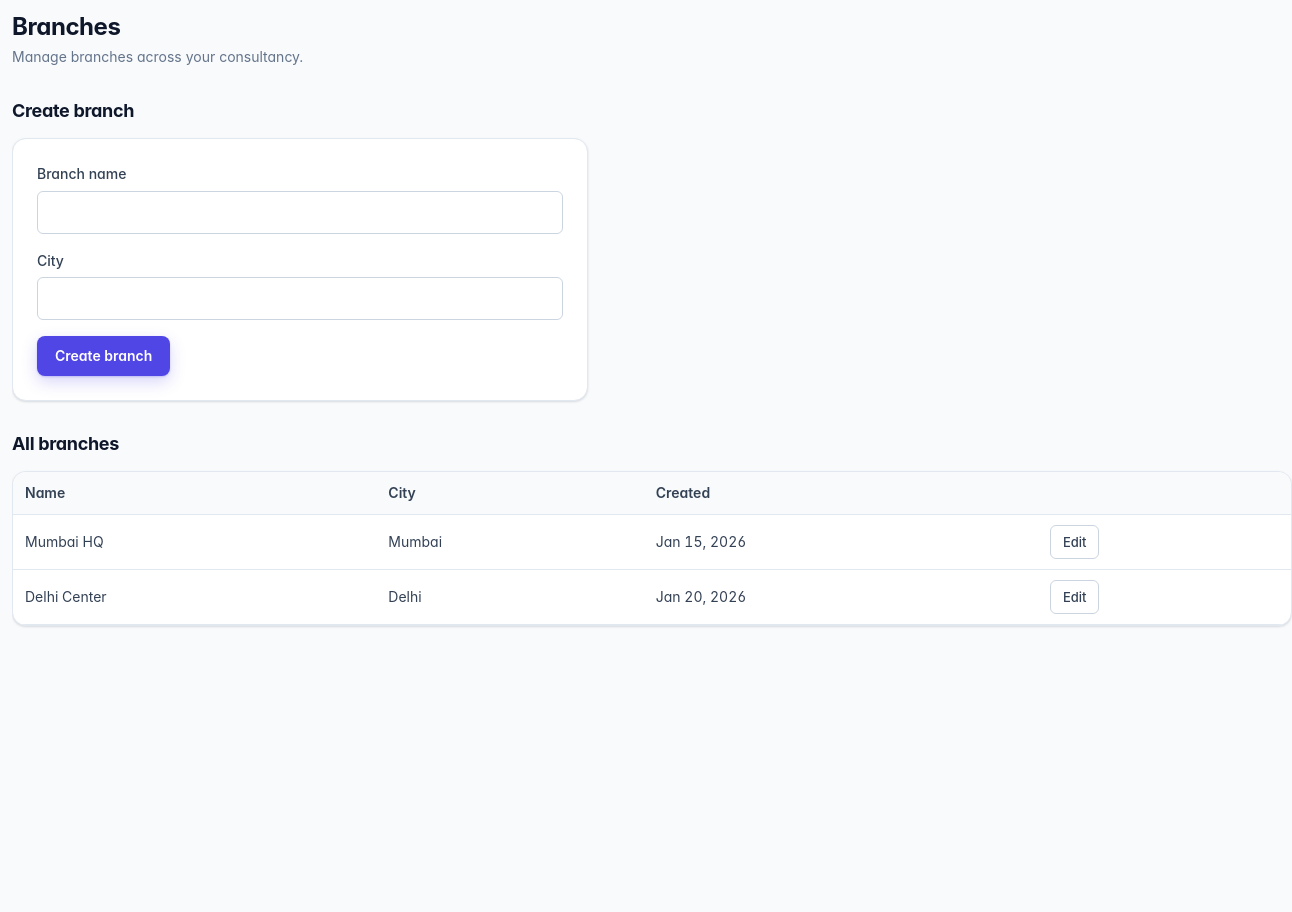
Test: BranchesPage › opens edit form and updates a branch
Click the button with test id "branch-edit-1" at (1075, 542), box [1050,525,1100,559]
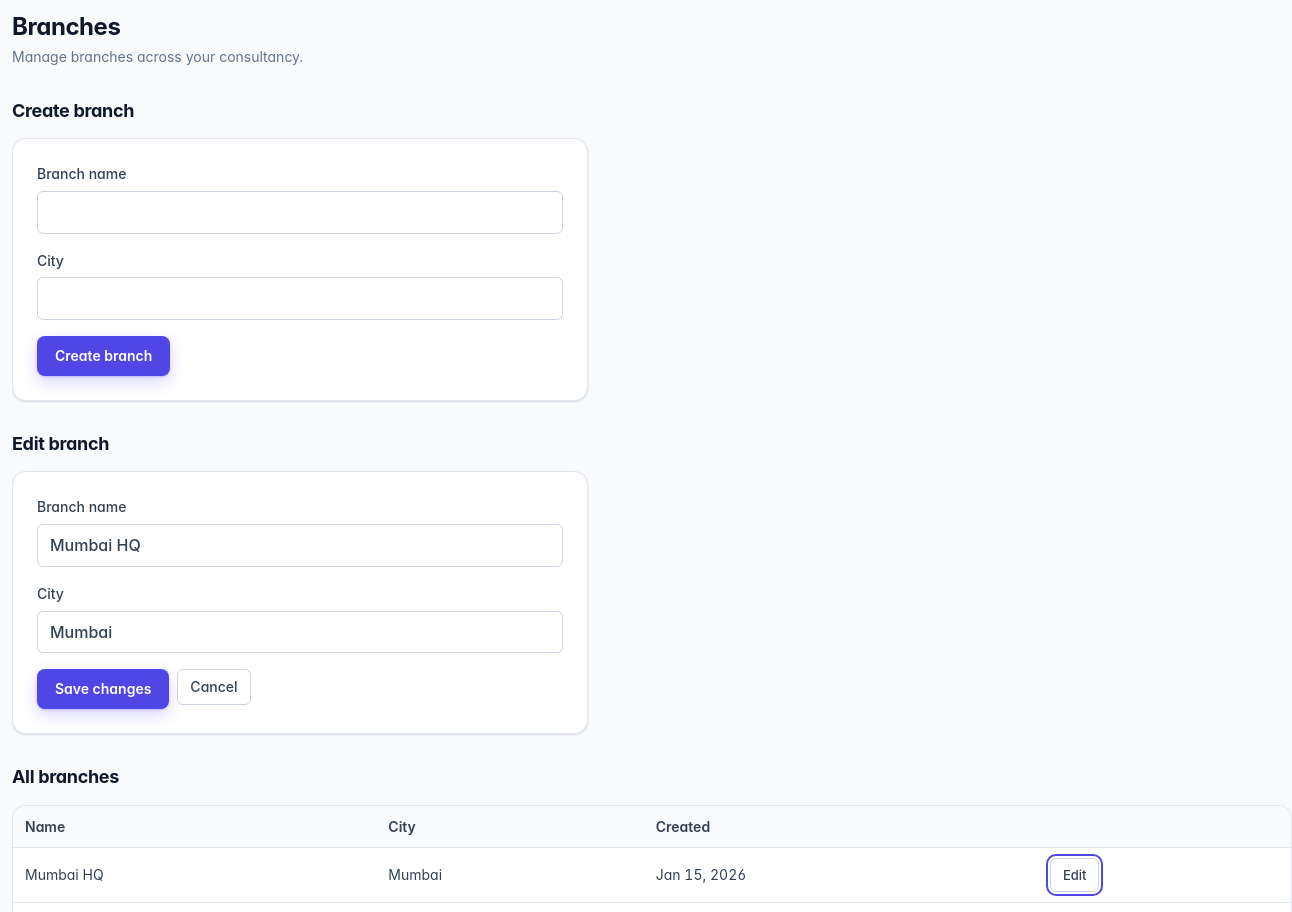
Expected: the field with test id "branch-edit-name" holds "Mumbai HQ"
Expected: the field with test id "branch-edit-city" holds "Mumbai", [37,610,563,653]
Replace the text in the field with test id "branch-edit-name" with "Mumbai Main" at (300, 545), box [37,524,563,567]
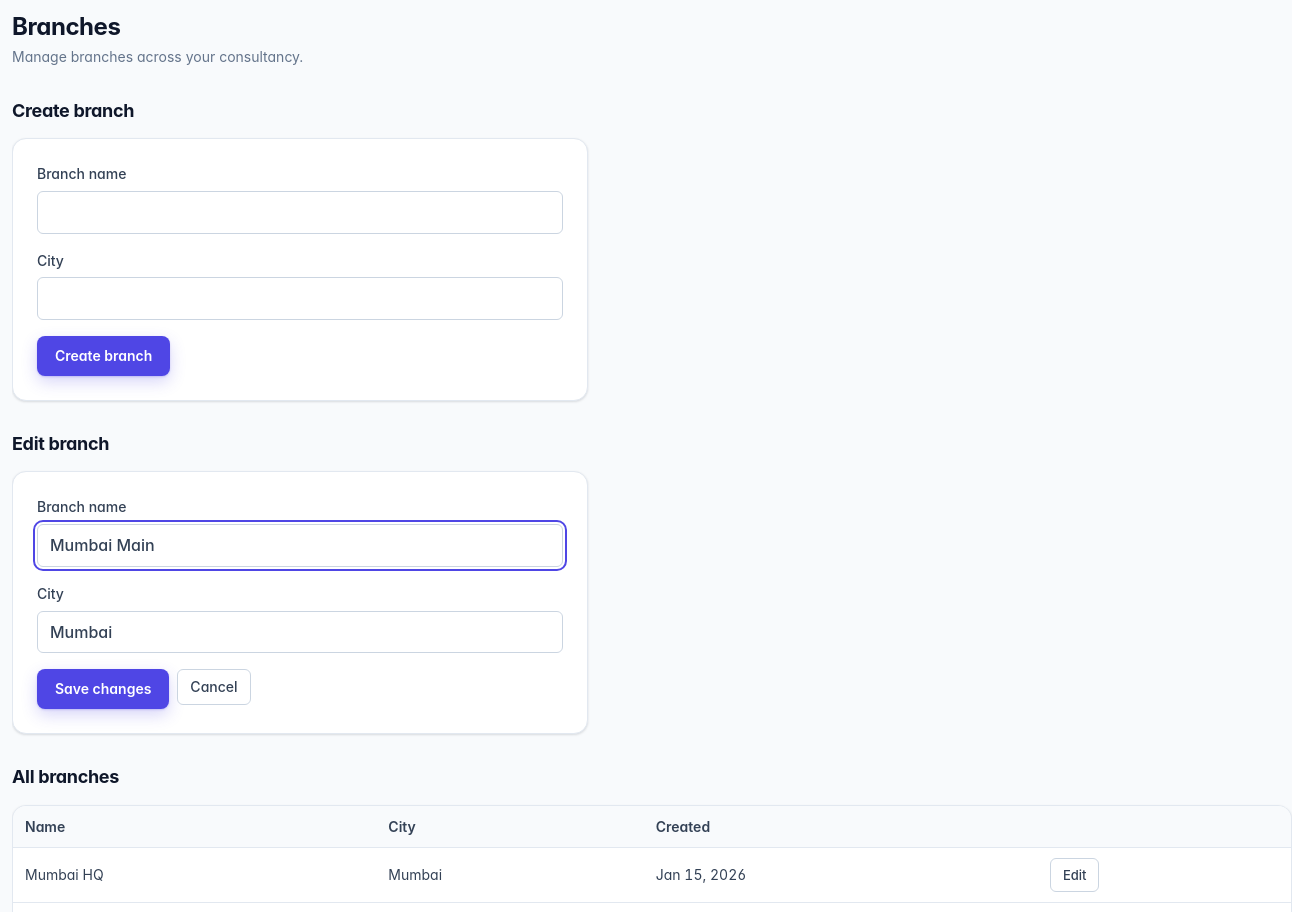
Click the button with test id "branch-edit-submit" at (103, 689), box [37,669,169,709]
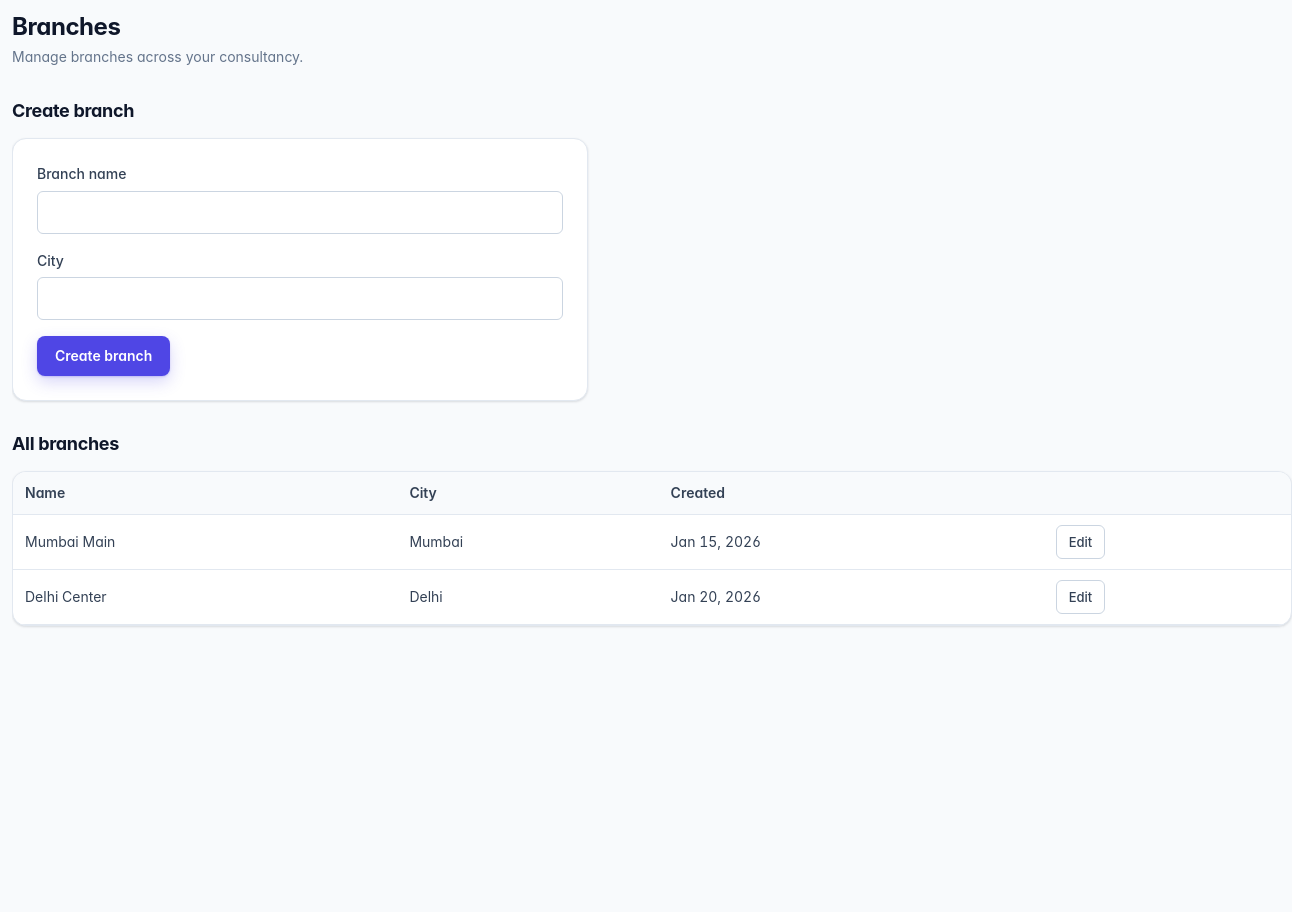
Expected: the field with test id "branch-edit-name" is gone
Expected: the text "Mumbai Main" is shown, [13,514,397,570]
